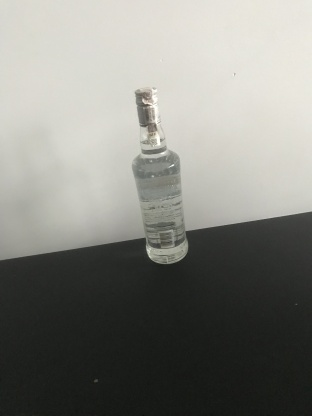nakretka: (133, 85, 162, 126)
